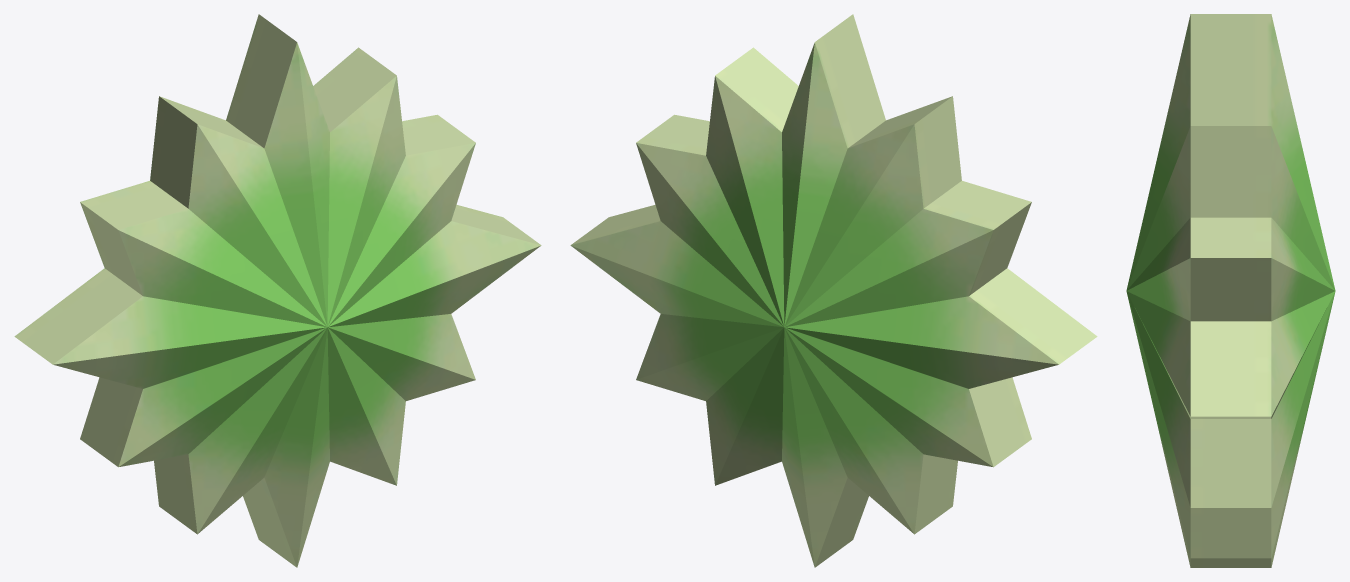
File: GrowParticle.fbx
The picture shows the model from 3 angles, left to right: view 1: azimuth 30°, elevation 25°; view 2: azimuth 150°, elevation 25°; view 3: azimuth 270°, elevation 25°; orthographic projection. The views are drawn at different scales.
Parts seen in each view (by area): view 1: GrowParticle_Mesh; view 2: GrowParticle_Mesh; view 3: GrowParticle_Mesh.
Boxes of the visible parts, bbox=[...] form: GrowParticle_Mesh: bbox=[14, 14, 541, 567]; GrowParticle_Mesh: bbox=[570, 14, 1097, 567]; GrowParticle_Mesh: bbox=[1126, 14, 1335, 567].
Bounding box in the file's own units: 34.96 × 35.93 × 12.29.
